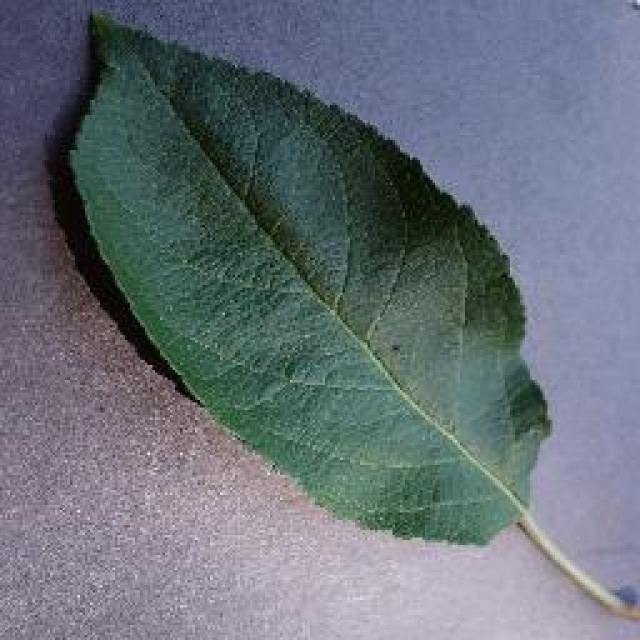apple healthy: (58, 2, 638, 628)
